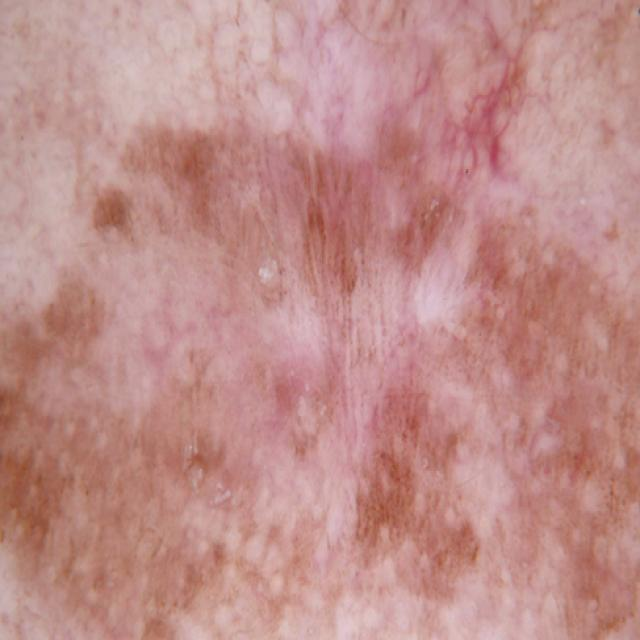Carcinoma: (0, 70, 640, 640)
